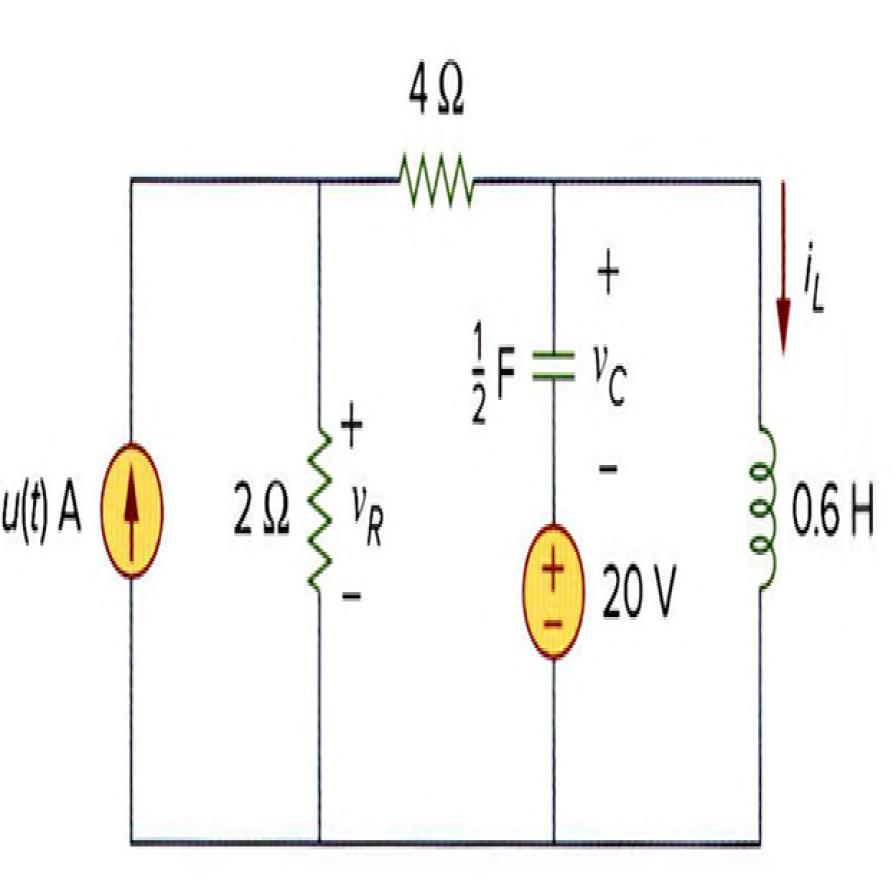C2: (527, 328, 584, 424)
I1: (96, 430, 172, 611)
L2: (734, 405, 785, 616)
R1: (386, 131, 487, 228)
R2: (294, 408, 338, 632)
V1: (513, 510, 593, 672)
